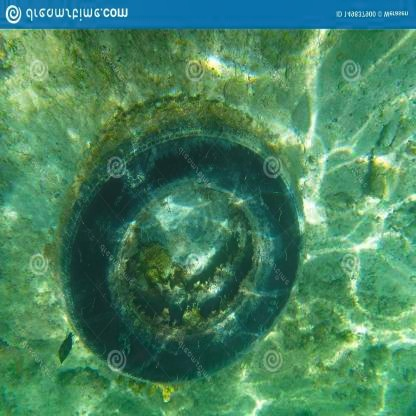tire: (55, 107, 300, 386)
